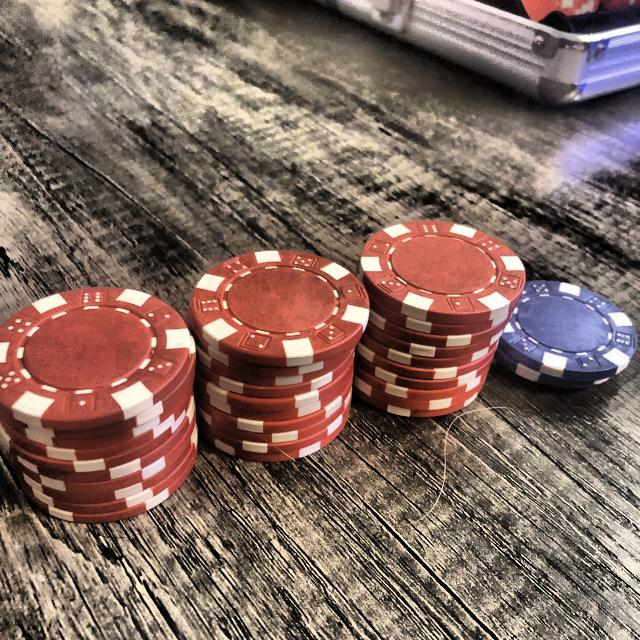Chip: (5, 258, 222, 536), (178, 218, 381, 478), (347, 190, 532, 433), (495, 251, 627, 401)
